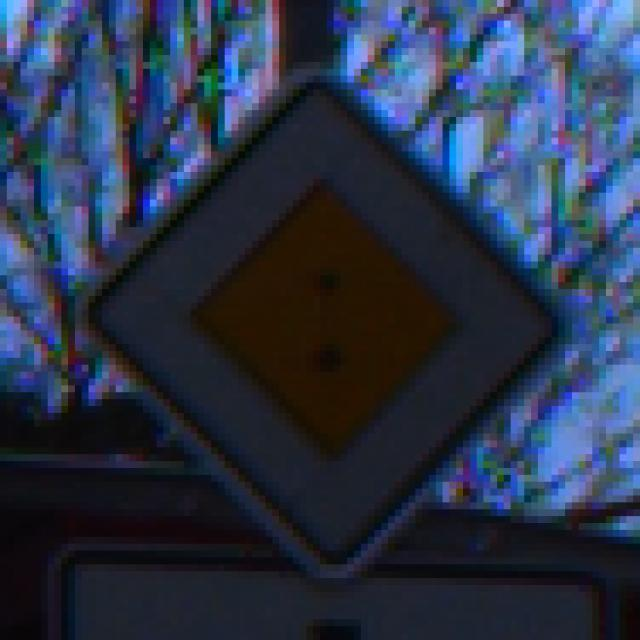Main Road: (62, 56, 587, 586)
